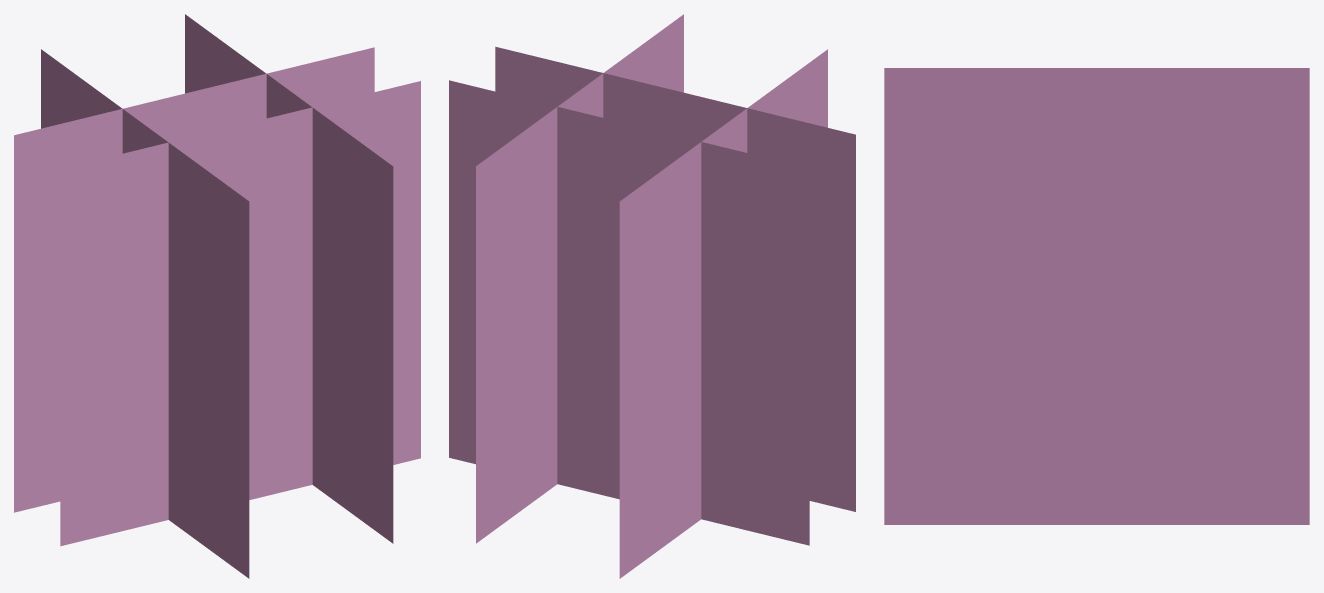
Rendered from roomcol.dae.
The picture shows the model from 3 angles, left to right: view 1: azimuth 30°, elevation 25°; view 2: azimuth 150°, elevation 25°; view 3: azimuth 270°, elevation 25°; orthographic projection. The views are drawn at different scales.
Parts seen in each view (by area): view 1: Plane04, Plane02, Plane03, Plane01; view 2: Plane01, Plane02, Plane03, Plane04; view 3: Plane03, Plane02.
Boxes of the visible parts, x1,y1,x2,y2 form: Plane04: (60, 81, 420, 546); Plane02: (41, 49, 249, 578); Plane03: (185, 14, 393, 543); Plane01: (14, 47, 374, 512); Plane01: (449, 80, 809, 545); Plane02: (619, 49, 827, 578); Plane03: (476, 14, 683, 543); Plane04: (495, 46, 855, 511); Plane03: (884, 139, 1309, 524); Plane02: (884, 68, 1309, 139).
Size of the model in its own units: 1969 by 1969 by 1969.
